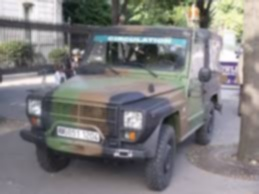license_plate: (56, 126, 100, 143)
